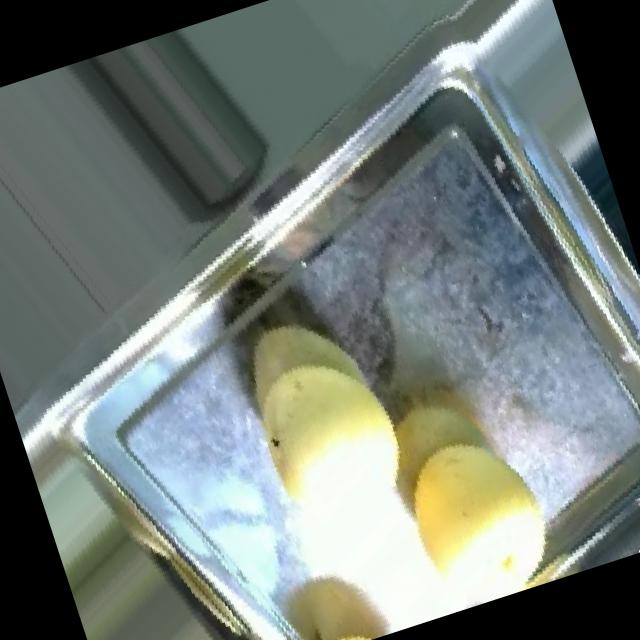Fruit: (188, 280, 436, 538), (363, 398, 582, 617)
